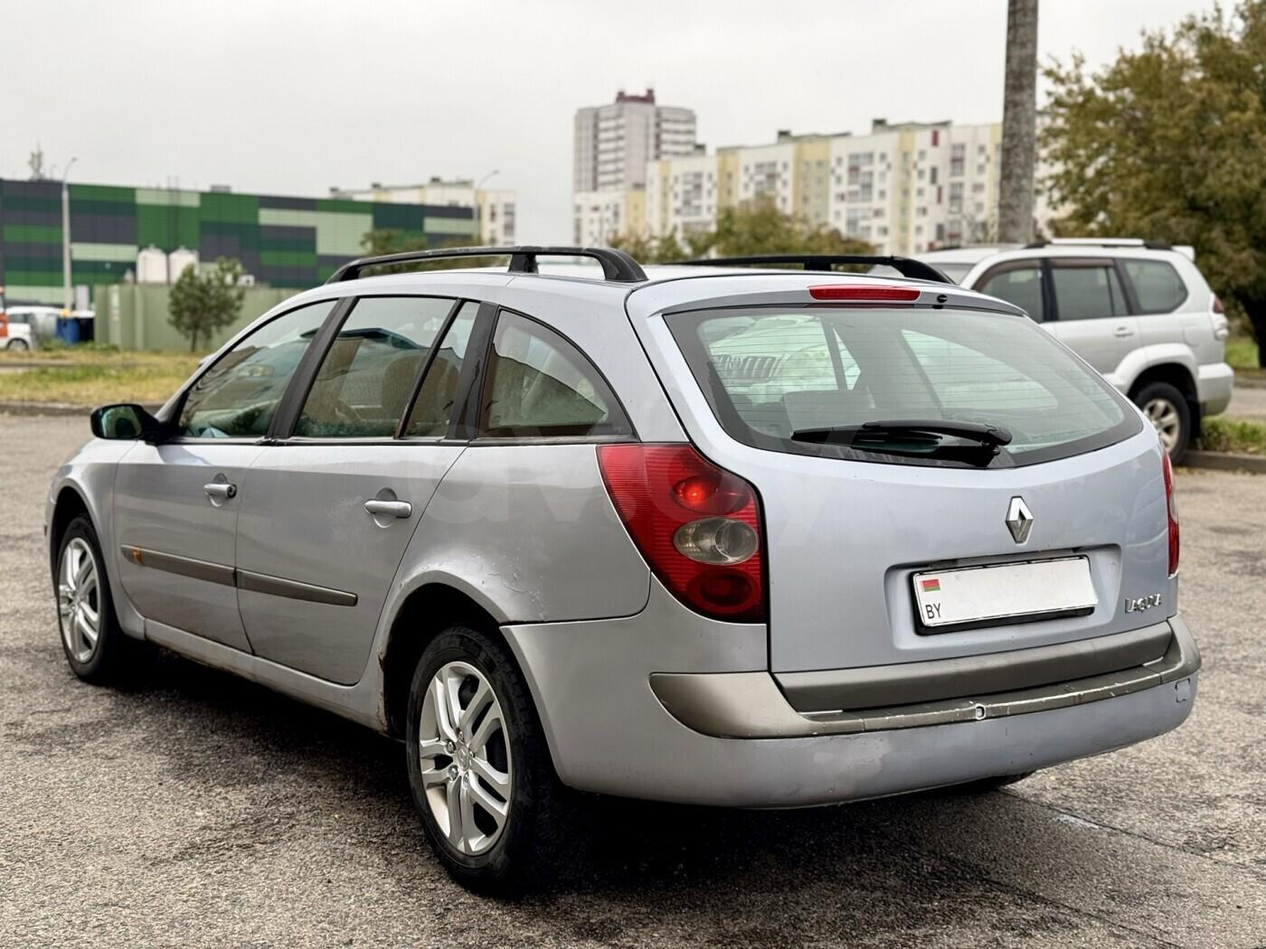Laguna_2001-2005: (43, 247, 1197, 890)
